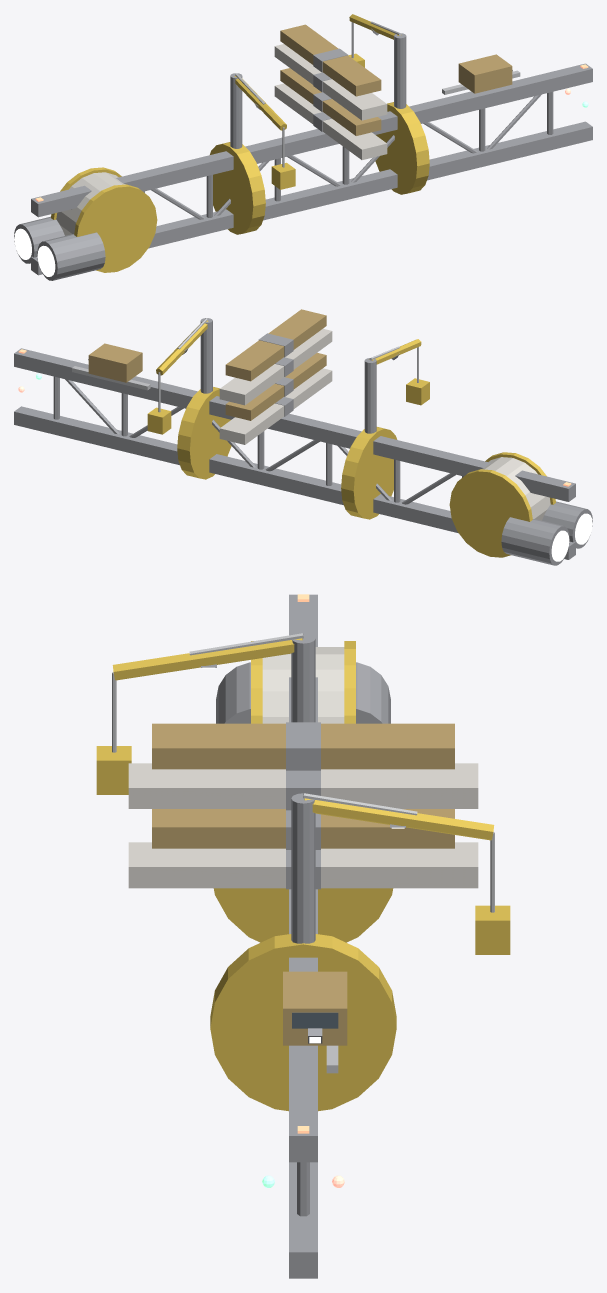
The model's file is construction_rig.glb.
3 renders of one model, top to bottom at view 1: azimuth 30°, elevation 25°; view 2: azimuth 150°, elevation 25°; view 3: azimuth 270°, elevation 25°, orthographic. The views are drawn at different scales.
Visible parts, largest first — view 1: rig_chord_t, rig_chord_b, rig_spool_rim_s, rig_ring1, rig_ring0, rig_prefab3, rig_drive_s_shroud, rig_prefab2, rig_prefab0, rig_prefab1, rig_cab_pod, rig_spool (+10 smaller); view 2: rig_chord_t, rig_chord_b, rig_spool_rim_p, rig_ring1, rig_ring0, rig_prefab3, rig_drive_p_shroud, rig_prefab2, rig_prefab0, rig_prefab1, rig_cab_pod, rig_spool (+13 smaller); view 3: rig_ring0, rig_prefab0, rig_prefab3, rig_prefab2, rig_prefab1, rig_ring1, rig_chord_t, rig_spool, rig_cab_pod, rig_crane_mast0, rig_jib0, rig_jib1 (+9 smaller).
Boxes of the visible parts, x1,y1,x2,y2 form: rig_chord_t: (31, 63, 592, 217); rig_chord_b: (31, 121, 592, 275); rig_spool_rim_s: (74, 184, 157, 272); rig_ring1: (210, 142, 265, 234); rig_ring0: (375, 102, 429, 194); rig_prefab3: (280, 24, 381, 96); rig_drive_s_shroud: (37, 232, 105, 280); rig_prefab2: (274, 44, 387, 120); rig_prefab0: (274, 83, 387, 159); rig_prefab1: (280, 68, 381, 135); rig_cab_pod: (458, 54, 512, 93); rig_spool: (56, 172, 125, 235); rig_chord_t: (14, 348, 575, 501); rig_chord_b: (14, 406, 575, 559); rig_spool_rim_p: (449, 469, 532, 557); rig_ring1: (341, 427, 397, 519); rig_ring0: (177, 387, 231, 479); rig_prefab3: (225, 309, 326, 381); rig_drive_p_shroud: (501, 517, 569, 565); rig_prefab2: (219, 328, 332, 405); rig_prefab0: (219, 368, 332, 444); rig_prefab1: (225, 352, 326, 420); rig_cab_pod: (88, 343, 142, 382); rig_spool: (481, 457, 550, 520); rig_ring0: (210, 934, 396, 1111); rig_prefab0: (128, 842, 478, 888); rig_prefab3: (152, 723, 454, 769); rig_prefab2: (128, 763, 478, 808); rig_prefab1: (152, 809, 454, 848); rig_ring1: (213, 888, 393, 942); rig_chord_t: (289, 594, 317, 1162); rig_spool: (262, 647, 344, 723); rig_cab_pod: (283, 971, 347, 1045); rig_crane_mast0: (291, 793, 315, 943); rig_jib0: (304, 798, 494, 840); rig_jib1: (112, 638, 302, 680).
Size of the model in its own units: 44.05 by 11.9 by 14.2.
